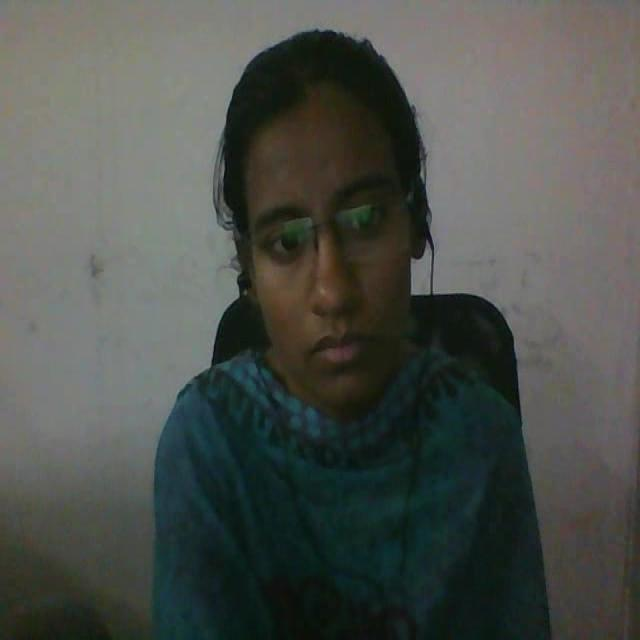Engaged: (204, 22, 449, 428)
